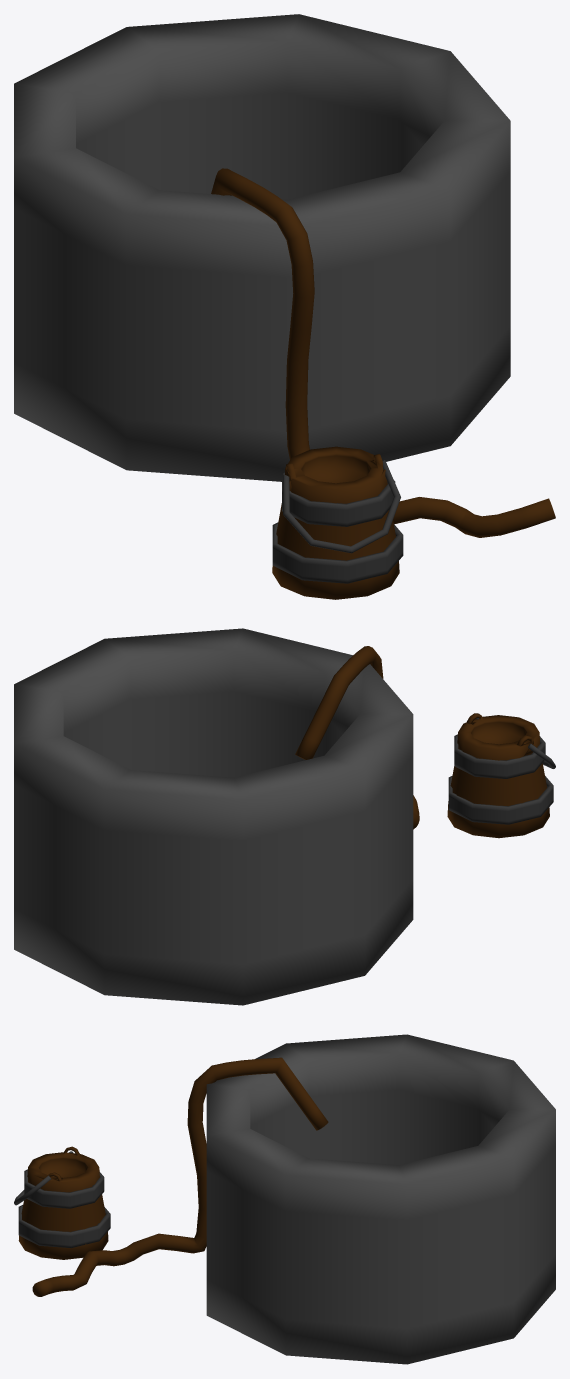
The model's file is Pozo.obj.
3 renders of one model, top to bottom at view 1: azimuth 30°, elevation 25°; view 2: azimuth 150°, elevation 25°; view 3: azimuth 270°, elevation 25°, orthographic. The views are drawn at different scales.
Visible parts, largest first — view 1: pozo, Loft008, Loft006, pozo001, pozo002, Loft007; view 2: pozo, Loft006, Loft008, pozo001, pozo002; view 3: pozo, Loft008, Loft006, pozo001, pozo002.
Part boxes in pixels (bbox=[...]): pozo: bbox=[14, 14, 510, 481]; Loft008: bbox=[211, 168, 555, 537]; Loft006: bbox=[272, 446, 399, 599]; pozo001: bbox=[272, 522, 403, 583]; pozo002: bbox=[282, 472, 395, 526]; Loft007: bbox=[283, 460, 400, 553]; pozo: bbox=[14, 628, 413, 1005]; Loft006: bbox=[447, 713, 549, 838]; Loft008: bbox=[295, 646, 419, 829]; pozo001: bbox=[448, 776, 553, 824]; pozo002: bbox=[454, 734, 545, 778]; pozo: bbox=[206, 1034, 555, 1364]; Loft008: bbox=[32, 1057, 328, 1296]; Loft006: bbox=[18, 1146, 108, 1259]; pozo001: bbox=[18, 1205, 110, 1248]; pozo002: bbox=[24, 1169, 104, 1208].
Bounding box in the file's own units: 45.67 × 28.12 × 69.76.
